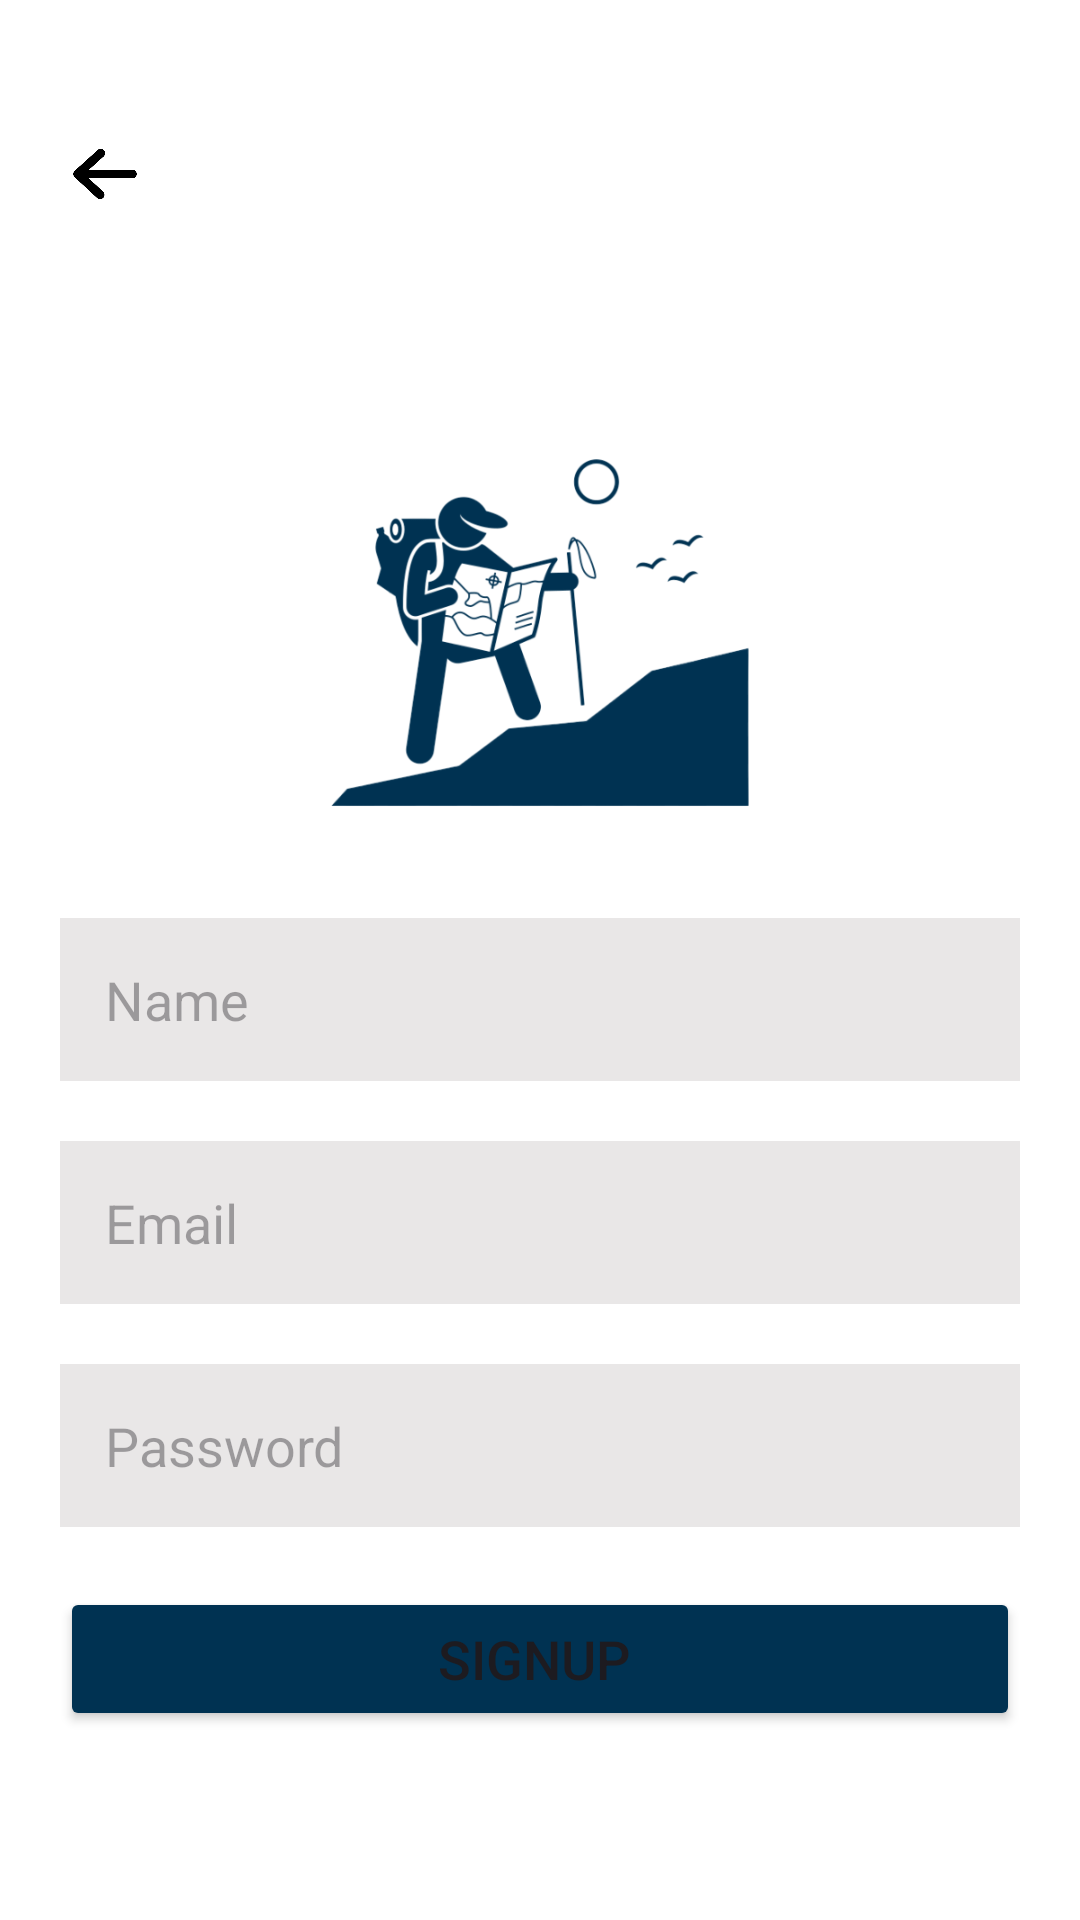

Icon click points for this 1080 x 1920 phone screenshot, format point (x, y):
back: point (105, 174)
